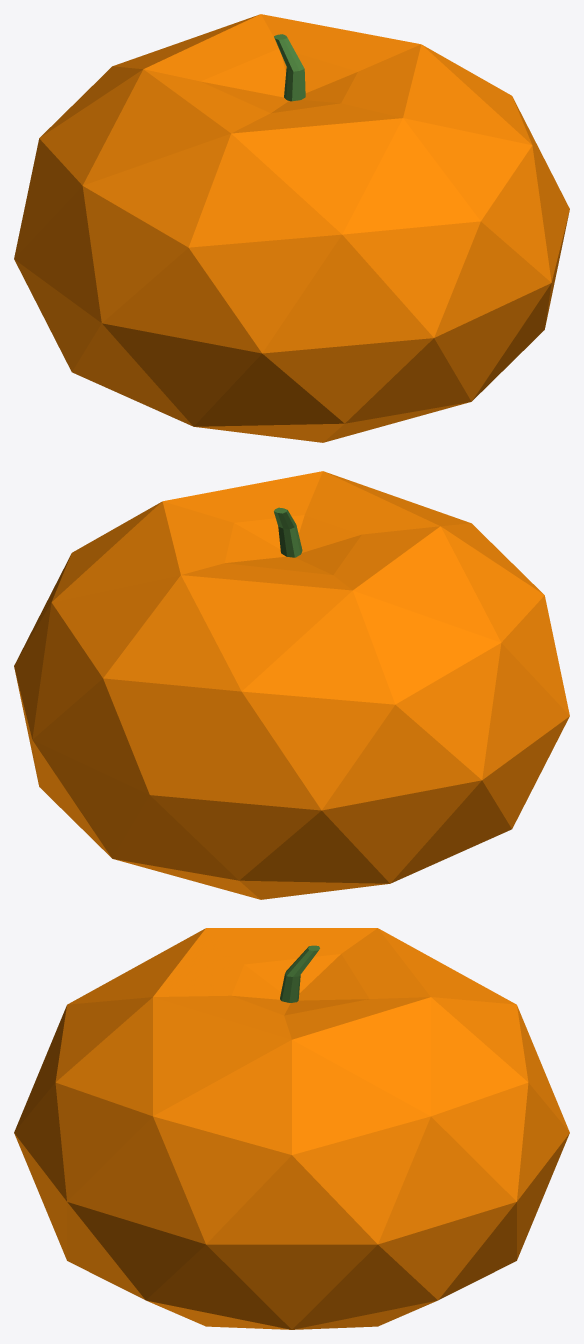
File: Tangerin_01.fbx
3 renders of one model, top to bottom at view 1: azimuth 30°, elevation 25°; view 2: azimuth 150°, elevation 25°; view 3: azimuth 270°, elevation 25°, orthographic. The views are drawn at different scales.
Visible parts, largest first — view 1: Tangerin_01; view 2: Tangerin_01; view 3: Tangerin_01.
Boxes of the visible parts, x1,y1,x2,y2 form: Tangerin_01: (14,14,569,442); Tangerin_01: (14,471,569,899); Tangerin_01: (14,928,569,1329).
Bounding box in the file's own units: 8.3 × 5.69 × 8.73.
